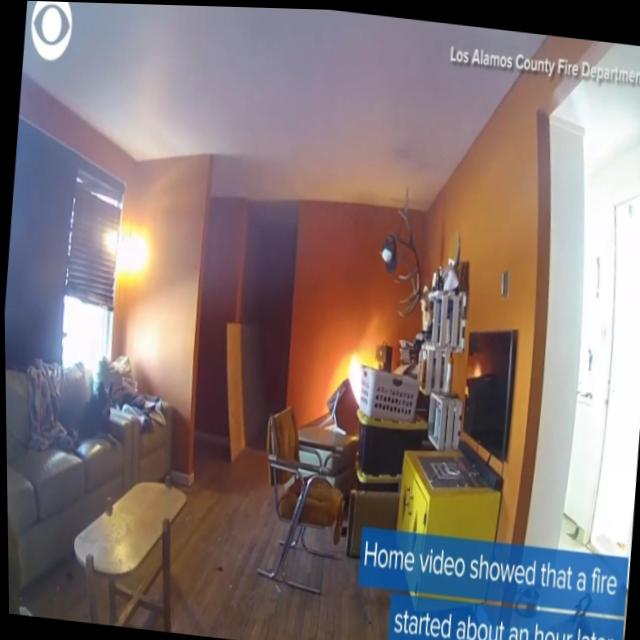fire: (337, 338, 373, 412)
